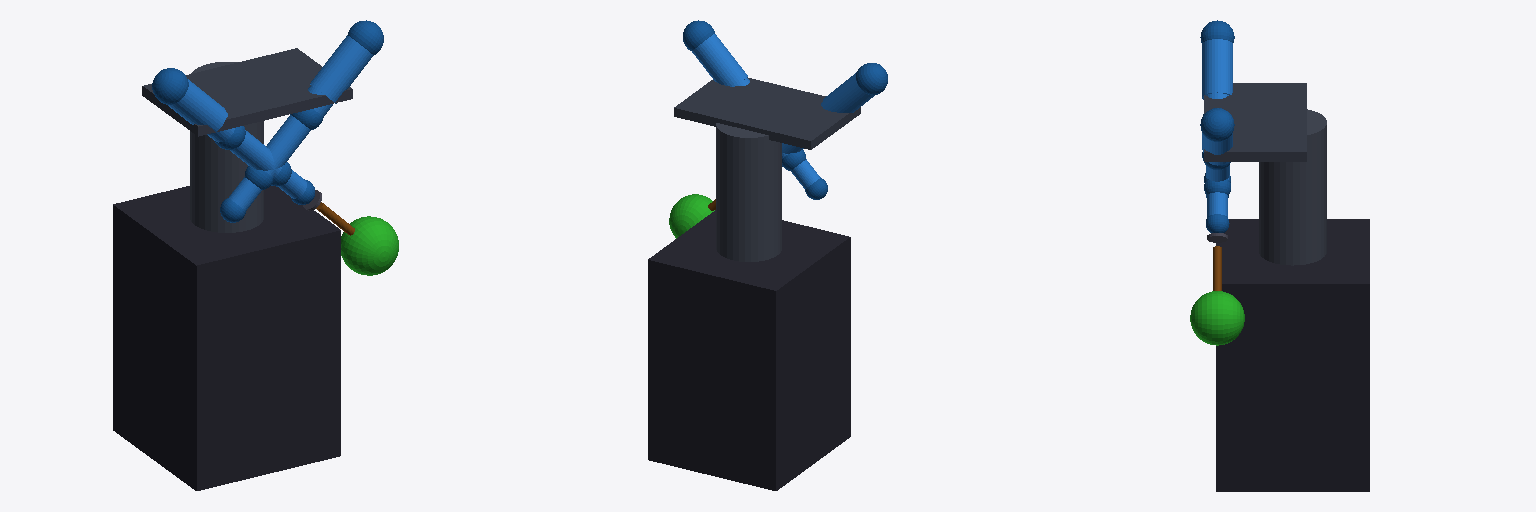
robot.urdf — tennis_rbt_robot:
<?xml version="1.0" encoding="utf-8"?>
<!--
  tennis_rbt 自制双臂网球机器人 URDF — canonical 机器人描述
  ════════════════════════════════════════════════════════════════
  用途：ROS / RViz / MoveIt / tf2 的标准机器人描述（人类可读事实来源）。
        MuJoCo 规划管线使用派生的 MJCF（src/robot/tennis_rbt.xml），
        二者运动学等价，需保持同步（修改其一须同步另一）。

  关系：URDF（本文件）= links/joints/inertial 的 canonical 描述
        MJCF（src/robot/tennis_rbt.xml）= MuJoCo 优化版（额外含 contact/exclude/actuator/site）
        rpy 已由 MJCF quaternion 精确转换（脚本 scipy as_euler('xyz')），保证等价。

  填写指引：见 docs/tennis_rbt_modeling_guide.md
  实测数据：见 assets/tennis_rbt/robot_measurements.yaml
  关节名（与 MJCF / 代码硬耦合一致）：r_joint1~6, l_joint1~6
  单位：米 / 弧度 / kg / kg·m²（URDF 标准）
-->
<robot name="tennis_rbt_robot">

  <!-- ================================================================ -->
  <!-- ===== 世界基座（虚拟 link） ===== -->
  <!-- ================================================================ -->
  <link name="base_link">
    <inertial>
      <mass value="0.001"/>
      <origin xyz="0 0 0" rpy="0 0 0"/>
      <inertia ixx="0.001" ixy="0" ixz="0" iyy="0.001" iyz="0" izz="0.001"/>
    </inertial>
  </link>

  <!-- ================================================================ -->
  <!-- ===== 自制底盘（box primitive，TODO_DIY 待实测） ===== -->
  <!-- ================================================================ -->
  <joint name="chassis_joint" type="fixed">
    <!-- 底盘 link 帧在 box 中心（世界 z=0.335），底面贴地 z=0 -->
    <origin xyz="0 0 0.335" rpy="0 0 0"/>
    <parent link="base_link"/>
    <child link="chassis_base"/>
  </joint>
  <link name="chassis_base">
    <!-- 落地长方体 0.45×0.45×0.67m，深灰承重感 -->
    <inertial>
      <mass value="30.0"/>
      <origin xyz="0 0 0" rpy="0 0 0"/>
      <inertia ixx="1.629" ixy="0" ixz="0" iyy="1.629" iyz="0" izz="1.013"/>
    </inertial>
    <visual>
      <origin xyz="0 0 0" rpy="0 0 0"/>
      <geometry>
        <box size="0.45 0.45 0.67"/>
      </geometry>
      <material name="chassis_grey"><color rgba="0.18 0.18 0.22 1"/></material>
    </visual>
    <collision>
      <origin xyz="0 0 0" rpy="0 0 0"/>
      <geometry>
        <box size="0.45 0.45 0.67"/>
      </geometry>
    </collision>
  </link>

  <!-- ===== 立柱（圆柱 ⌀0.2×0.415m，底盘顶 z=0.67 到平台 z=1.085） ===== -->
  <joint name="pillar_joint" type="fixed">
    <!-- 立柱底面在底盘顶面 z=0.67 -->
    <origin xyz="0 0 0.335" rpy="0 0 0"/>
    <parent link="chassis_base"/>
    <child link="pillar_base"/>
  </joint>
  <link name="pillar_base">
    <inertial>
      <mass value="10.0"/>
      <origin xyz="0 0 0.2075" rpy="0 0 0"/>
      <inertia ixx="0.169" ixy="0" ixz="0" iyy="0.169" iyz="0" izz="0.05"/>
    </inertial>
    <visual>
      <origin xyz="0 0 0.2075" rpy="0 0 0"/>
      <geometry>
        <cylinder length="0.415" radius="0.10"/>
      </geometry>
      <material name="pillar_dark"><color rgba="0.28 0.30 0.35 1"/></material>
    </visual>
    <collision>
      <origin xyz="0 0 0.2075" rpy="0 0 0"/>
      <geometry>
        <cylinder length="0.415" radius="0.10"/>
      </geometry>
    </collision>
  </link>

  <!-- ===== 平台（双臂安装基座，前置悬挑，世界 z=1.085） ===== -->
  <joint name="platform_joint" type="fixed">
    <!-- 平台前置 y=-0.11，世界 y=-0.11，使双臂悬挑在立柱前方 -->
    <origin xyz="0 -0.11 0.415" rpy="0 0 0"/>
    <parent link="pillar_base"/>
    <child link="platform_base_link"/>
  </joint>
  <link name="platform_base_link">
    <inertial>
      <mass value="3.0"/>
      <origin xyz="0 0 0" rpy="0 0 0"/>
      <inertia ixx="0.017" ixy="0" ixz="0" iyy="0.058" iyz="0" izz="0.075"/>
    </inertial>
    <visual>
      <origin xyz="0 0 0" rpy="0 0 0"/>
      <geometry><box size="0.48 0.30 0.03"/></geometry>
      <material name="platform_grey"><color rgba="0.25 0.27 0.32 1"/></material>
    </visual>
  </link>

  <!-- ================================================================ -->
  <!-- ===== 右臂（6-DOF + 网球拍）— 整段复用 RM-65B ===== -->
  <!-- ================================================================ -->
  <joint name="r_base_joint" type="fixed">
    <!-- 右臂底座：x=-0.17, y=-0.11（前置悬挑，世界 y=-0.22 避开立柱），rpy 不变 -->
    <origin xyz="-0.17 -0.11 0" rpy="0 -0.7854 0"/>
    <parent link="platform_base_link"/>
    <child link="r_base_link1"/>
  </joint>
  <link name="r_base_link1">
    <inertial>
      <mass value="0.234"/>
      <origin xyz="0 0.006 0.025" rpy="0 0 0"/>
      <inertia ixx="0.000274" ixy="0" ixz="0" iyy="0.000264" iyz="0" izz="0.000367"/>
    </inertial>
    <visual>
      <origin xyz="0 0 0.0935" rpy="0 0 0"/>
      <geometry><cylinder length="0.187" radius="0.045"/></geometry>
      <material name="arm_blue"><color rgba="0.2 0.5 0.8 1"/></material>
    </visual>
  </link>

  <!-- r_joint1: 肩关节偏航 -->
  <joint name="r_joint1" type="revolute">
    <origin xyz="0 0 0.187" rpy="0 0 0"/>
    <parent link="r_base_link1"/>
    <child link="r_link1"/>
    <axis xyz="0 0 1"/>
    <limit lower="-3.10669" upper="3.10669" effort="60" velocity="3.14"/>
    <dynamics damping="2.0"/>
  </joint>
  <link name="r_link1">
    <inertial>
      <mass value="0.594"/>
      <origin xyz="0 0.021 -0.025" rpy="0 0 0"/>
      <inertia ixx="0.00127" ixy="0" ixz="0" iyy="0.00118" iyz="0" izz="0.000561"/>
    </inertial>
    <visual>
      <origin xyz="0 0 0" rpy="0 0 0"/>
      <geometry><sphere radius="0.05"/></geometry>
      <material name="arm_joint"><color rgba="0.13 0.38 0.62 1"/></material>
    </visual>
  </link>

  <!-- r_joint2: 肩关节俯仰 -->
  <joint name="r_joint2" type="revolute">
    <origin xyz="0 0 0" rpy="-1.5708 1.5708 0"/>
    <parent link="r_link1"/>
    <child link="r_link2"/>
    <axis xyz="0 0 1"/>
    <limit lower="-2.26893" upper="2.26893" effort="60" velocity="3.14"/>
    <dynamics damping="2.0"/>
  </joint>
  <link name="r_link2">
    <inertial>
      <mass value="0.864"/>
      <origin xyz="0.152 0 -0.006" rpy="0 0 0"/>
      <inertia ixx="0.000633" ixy="0" ixz="0" iyy="0.00205" iyz="0" izz="0.00195"/>
    </inertial>
    <visual>
      <origin xyz="0.128 0 0" rpy="0 1.5708 0"/>
      <geometry><cylinder length="0.256" radius="0.04"/></geometry>
      <material name="arm_blue"/>
    </visual>
  </link>

  <!-- r_joint3: 肘关节 -->
  <joint name="r_joint3" type="revolute">
    <origin xyz="0.256 0 0" rpy="0 0 1.5708"/>
    <parent link="r_link2"/>
    <child link="r_link3"/>
    <axis xyz="0 0 1"/>
    <limit lower="-2.35619" upper="2.35619" effort="30" velocity="3.14"/>
    <dynamics damping="1.0"/>
  </joint>
  <link name="r_link3">
    <inertial>
      <mass value="0.290"/>
      <origin xyz="0 -0.060 0.010" rpy="0 0 0"/>
      <inertia ixx="0.000637" ixy="0" ixz="0" iyy="0.000156" iyz="0" izz="0.000614"/>
    </inertial>
    <visual>
      <origin xyz="0 0 0" rpy="0 0 0"/>
      <geometry><sphere radius="0.045"/></geometry>
      <material name="arm_joint"/>
    </visual>
    <visual>
      <origin xyz="0 -0.105 0" rpy="1.5708 0 0"/>
      <geometry><cylinder length="0.21" radius="0.035"/></geometry>
      <material name="arm_blue"/>
    </visual>
  </link>

  <!-- r_joint4: 腕关节1 -->
  <joint name="r_joint4" type="revolute">
    <origin xyz="0 -0.21 0" rpy="1.5708 0 0"/>
    <parent link="r_link3"/>
    <child link="r_link4"/>
    <axis xyz="0 0 1"/>
    <limit lower="-3.10669" upper="3.10669" effort="10" velocity="3.14"/>
    <dynamics damping="0.5"/>
  </joint>
  <link name="r_link4">
    <inertial>
      <mass value="0.239"/>
      <origin xyz="0 -0.018 -0.022" rpy="0 0 0"/>
      <inertia ixx="0.000286" ixy="0" ixz="0" iyy="0.000263" iyz="0" izz="0.000120"/>
    </inertial>
    <visual>
      <origin xyz="0 0 0" rpy="0 0 0"/>
      <geometry><sphere radius="0.04"/></geometry>
      <material name="arm_joint"/>
    </visual>
  </link>

  <!-- r_joint5: 腕关节2 -->
  <joint name="r_joint5" type="revolute">
    <origin xyz="0 0 0" rpy="-1.5708 0 0"/>
    <parent link="r_link4"/>
    <child link="r_link5"/>
    <axis xyz="0 0 1"/>
    <limit lower="-2.23402" upper="2.23402" effort="10" velocity="3.14"/>
    <dynamics damping="0.3"/>
  </joint>
  <link name="r_link5">
    <inertial>
      <mass value="0.219"/>
      <origin xyz="0 -0.059 0.007" rpy="0 0 0"/>
      <inertia ixx="0.000351" ixy="0" ixz="0" iyy="0.000105" iyz="0" izz="0.000334"/>
    </inertial>
    <visual>
      <origin xyz="0 -0.056 0" rpy="1.5708 0 0"/>
      <geometry><cylinder length="0.112" radius="0.03"/></geometry>
      <material name="arm_blue"/>
    </visual>
  </link>

  <!-- r_joint6: 腕关节3（法兰旋转） -->
  <joint name="r_joint6" type="revolute">
    <origin xyz="0 -0.112 0" rpy="1.5708 0 0"/>
    <parent link="r_link5"/>
    <child link="r_link6"/>
    <axis xyz="0 0 1"/>
    <limit lower="-6.28319" upper="6.28319" effort="10" velocity="3.14"/>
    <dynamics damping="0.2"/>
  </joint>
  <link name="r_link6">
    <inertial>
      <mass value="0.221"/>
      <origin xyz="-0.029 0 0.028" rpy="0 0 0"/>
      <inertia ixx="0.000138" ixy="0" ixz="0" iyy="0.000269" iyz="0" izz="0.000353"/>
    </inertial>
    <visual>
      <origin xyz="0 0 0" rpy="0 0 0"/>
      <geometry><sphere radius="0.035"/></geometry>
      <material name="arm_joint"/>
    </visual>
  </link>

  <!-- ===== 法兰 ===== -->
  <joint name="r_flange_joint" type="fixed">
    <origin xyz="0 0 0.0445" rpy="0 0 0"/>
    <parent link="r_link6"/>
    <child link="r_flange"/>
  </joint>
  <link name="r_flange">
    <inertial>
      <mass value="0.05"/>
      <origin xyz="0 0 0" rpy="0 0 0"/>
      <inertia ixx="0.00002" ixy="0" ixz="0" iyy="0.00002" iyz="0" izz="0.00002"/>
    </inertial>
    <visual>
      <origin xyz="0 0 0" rpy="0 0 0"/>
      <geometry><cylinder length="0.01" radius="0.03"/></geometry>
      <material name="flange_grey"><color rgba="0.3 0.3 0.35 1"/></material>
    </visual>
  </link>

  <!-- ===== 网球拍（末端执行器） ===== -->
  <!-- TODO_DIY: 若球拍安装方式与 RM-65B 不同，改这里的 origin（见 [A].racket） -->
  <joint name="r_racket_joint" type="fixed">
    <origin xyz="0 0 0" rpy="0 0 1.5708"/>
    <parent link="r_flange"/>
    <child link="r_racket_body"/>
  </joint>
  <link name="r_racket_body">
    <inertial>
      <mass value="0.35"/>
      <origin xyz="0 0 0.13" rpy="0 0 0"/>
      <inertia ixx="0.003" ixy="0" ixz="0" iyy="0.001" iyz="0" izz="0.003"/>
    </inertial>
    <visual>
      <origin xyz="0 0 0.125" rpy="0 0 0"/>
      <geometry><cylinder length="0.19" radius="0.012"/></geometry>
      <material name="handle_brown"><color rgba="0.5 0.3 0.1 1"/></material>
    </visual>
    <visual>
      <origin xyz="0 0 0.25" rpy="0 1.5708 0"/>
      <geometry><sphere radius="0.08"/></geometry>
      <material name="face_green"><color rgba="0.2 0.7 0.2 0.6"/></material>
    </visual>
  </link>
  <!-- 拍面中心标记（对应 MJCF 的 racket_center site） -->
  <link name="racket_center"/>
  <joint name="racket_center_joint" type="fixed">
    <origin xyz="0 0 0.25" rpy="0 0 0"/>
    <parent link="r_racket_body"/>
    <child link="racket_center"/>
  </joint>

  <!-- ================================================================ -->
  <!-- ===== 左臂（不驱动，仅视觉）— 整段复用 RM-65B ===== -->
  <!-- ================================================================ -->
  <joint name="l_base_joint" type="fixed">
    <!-- 左臂底座：x=+0.17, y=-0.11（前置悬挑），与右臂镜像 -->
    <origin xyz="0.17 -0.11 0" rpy="0 -0.7854 3.14159"/>
    <parent link="platform_base_link"/>
    <child link="l_base_link1"/>
  </joint>
  <link name="l_base_link1">
    <inertial>
      <mass value="0.234"/>
      <origin xyz="0 0.006 0.025" rpy="0 0 0"/>
      <inertia ixx="0.000274" ixy="0" ixz="0" iyy="0.000264" iyz="0" izz="0.000367"/>
    </inertial>
    <visual>
      <origin xyz="0 0 0.0935" rpy="0 0 0"/>
      <geometry><cylinder length="0.187" radius="0.045"/></geometry>
      <material name="arm_grey"><color rgba="0.2 0.5 0.8 1"/></material>
    </visual>
  </link>

  <!-- l_joint1 -->
  <joint name="l_joint1" type="revolute">
    <origin xyz="0 0 0.187" rpy="0 0 0"/>
    <parent link="l_base_link1"/>
    <child link="l_link1"/>
    <axis xyz="0 0 1"/>
    <limit lower="-3.10669" upper="3.10669" effort="60" velocity="3.14"/>
    <dynamics damping="2.0"/>
  </joint>
  <link name="l_link1">
    <inertial>
      <mass value="0.594"/>
      <origin xyz="0 0.021 -0.025" rpy="0 0 0"/>
      <inertia ixx="0.00127" ixy="0" ixz="0" iyy="0.00118" iyz="0" izz="0.000561"/>
    </inertial>
    <visual>
      <origin xyz="0 0 0" rpy="0 0 0"/>
      <geometry><sphere radius="0.05"/></geometry>
      <material name="arm_joint"/>
    </visual>
  </link>

  <!-- l_joint2 -->
  <joint name="l_joint2" type="revolute">
    <origin xyz="0 0 0" rpy="-1.5708 1.5708 0"/>
    <parent link="l_link1"/>
    <child link="l_link2"/>
    <axis xyz="0 0 1"/>
    <limit lower="-2.26893" upper="2.26893" effort="60" velocity="3.14"/>
    <dynamics damping="2.0"/>
  </joint>
  <link name="l_link2">
    <inertial>
      <mass value="0.864"/>
      <origin xyz="0.152 0 -0.006" rpy="0 0 0"/>
      <inertia ixx="0.000633" ixy="0" ixz="0" iyy="0.00205" iyz="0" izz="0.00195"/>
    </inertial>
    <visual>
      <origin xyz="0.128 0 0" rpy="0 1.5708 0"/>
      <geometry><cylinder length="0.256" radius="0.04"/></geometry>
      <material name="arm_grey"/>
    </visual>
  </link>

  <!-- l_joint3 -->
  <joint name="l_joint3" type="revolute">
    <origin xyz="0.256 0 0" rpy="0 0 1.5708"/>
    <parent link="l_link2"/>
    <child link="l_link3"/>
    <axis xyz="0 0 1"/>
    <limit lower="-2.35619" upper="2.35619" effort="30" velocity="3.14"/>
    <dynamics damping="1.0"/>
  </joint>
  <link name="l_link3">
    <inertial>
      <mass value="0.290"/>
      <origin xyz="0 -0.060 0.010" rpy="0 0 0"/>
      <inertia ixx="0.000637" ixy="0" ixz="0" iyy="0.000156" iyz="0" izz="0.000614"/>
    </inertial>
    <visual>
      <origin xyz="0 0 0" rpy="0 0 0"/>
      <geometry><sphere radius="0.045"/></geometry>
      <material name="arm_joint"/>
    </visual>
    <visual>
      <origin xyz="0 -0.105 0" rpy="1.5708 0 0"/>
      <geometry><cylinder length="0.21" radius="0.035"/></geometry>
      <material name="arm_grey"/>
    </visual>
  </link>

  <!-- l_joint4 -->
  <joint name="l_joint4" type="revolute">
    <origin xyz="0 -0.21 0" rpy="1.5708 0 0"/>
    <parent link="l_link3"/>
    <child link="l_link4"/>
    <axis xyz="0 0 1"/>
    <limit lower="-3.10669" upper="3.10669" effort="10" velocity="3.14"/>
    <dynamics damping="0.5"/>
  </joint>
  <link name="l_link4">
    <inertial>
      <mass value="0.239"/>
      <origin xyz="0 -0.018 -0.022" rpy="0 0 0"/>
      <inertia ixx="0.000286" ixy="0" ixz="0" iyy="0.000263" iyz="0" izz="0.000120"/>
    </inertial>
    <visual>
      <origin xyz="0 0 0" rpy="0 0 0"/>
      <geometry><sphere radius="0.04"/></geometry>
      <material name="arm_joint"/>
    </visual>
  </link>

  <!-- l_joint5 -->
  <joint name="l_joint5" type="revolute">
    <origin xyz="0 0 0" rpy="-1.5708 0 0"/>
    <parent link="l_link4"/>
    <child link="l_link5"/>
    <axis xyz="0 0 1"/>
    <limit lower="-2.23402" upper="2.23402" effort="10" velocity="3.14"/>
    <dynamics damping="0.3"/>
  </joint>
  <link name="l_link5">
    <inertial>
      <mass value="0.219"/>
      <origin xyz="0 -0.059 0.007" rpy="0 0 0"/>
      <inertia ixx="0.000351" ixy="0" ixz="0" iyy="0.000105" iyz="0" izz="0.000334"/>
    </inertial>
    <visual>
      <origin xyz="0 -0.0575 0" rpy="1.5708 0 0"/>
      <geometry><cylinder length="0.115" radius="0.03"/></geometry>
      <material name="arm_grey"/>
    </visual>
  </link>

  <!-- l_joint6 -->
  <joint name="l_joint6" type="revolute">
    <origin xyz="0 -0.115 0" rpy="1.5708 0 0"/>
    <parent link="l_link5"/>
    <child link="l_link6"/>
    <axis xyz="0 0 1"/>
    <limit lower="-6.28319" upper="6.28319" effort="10" velocity="3.14"/>
    <dynamics damping="0.2"/>
  </joint>
  <link name="l_link6">
    <inertial>
      <mass value="0.221"/>
      <origin xyz="0.029 0 0.025" rpy="0 0 0"/>
      <inertia ixx="0.000138" ixy="0" ixz="0" iyy="0.000269" iyz="0" izz="0.000353"/>
    </inertial>
    <visual>
      <origin xyz="0 0 0" rpy="0 0 0"/>
      <geometry><sphere radius="0.035"/></geometry>
      <material name="arm_joint"/>
    </visual>
  </link>

  <!-- ===== 传动（ros2_control 用，可选） =====
  <transmission name="r_joint1_trans">
    <type>transmission_interface/SimpleTransmission</type>
    <joint name="r_joint1"><hardwareInterface>hardware_interface/PositionJointInterface</hardwareInterface></joint>
    <actuator name="r_joint1_motor"><mechanicalReduction>1</mechanicalReduction></actuator>
  </transmission>
  -->

</robot>

--- Render facts (derived) ---
3 views of the same robot in one strip: view 1: azimuth 30°, elevation 25°; view 2: azimuth 150°, elevation 25°; view 3: azimuth 270°, elevation 25° (orthographic).
Model tennis_rbt_robot with 21 links and 20 joints (12 revolute, 8 fixed), rooted at base_link, posed all joints at 0.
Links seen in each view (by area): view 1: chassis_base, platform_base_link, pillar_base, r_racket_body, l_base_link1, l_link3, r_base_link1, r_link3, r_link1, l_link1, l_link5; view 2: chassis_base, pillar_base, platform_base_link, l_base_link1, r_racket_body, r_base_link1, r_link1, l_link1; view 3: chassis_base, pillar_base, platform_base_link, r_racket_body, r_base_link1, l_link1, r_link1.
Boxes of the visible links, x1,y1,x2,y2 form: chassis_base: (113, 186, 340, 490); platform_base_link: (142, 48, 352, 136); pillar_base: (190, 62, 263, 232); r_racket_body: (316, 202, 398, 275); l_base_link1: (310, 35, 373, 103); l_link3: (265, 109, 323, 177); r_base_link1: (168, 79, 225, 134); r_link3: (215, 126, 281, 176); r_link1: (152, 68, 188, 104); l_link1: (348, 20, 383, 54); l_link5: (229, 177, 261, 210); chassis_base: (648, 210, 850, 490); pillar_base: (716, 123, 781, 261); platform_base_link: (674, 78, 860, 149); l_base_link1: (692, 34, 747, 86); r_racket_body: (669, 194, 715, 238); r_base_link1: (822, 72, 874, 112); r_link1: (856, 63, 887, 94); l_link1: (683, 20, 714, 50); chassis_base: (1216, 219, 1369, 491); pillar_base: (1259, 109, 1326, 265); platform_base_link: (1204, 83, 1306, 161); r_racket_body: (1190, 246, 1244, 345); r_base_link1: (1202, 39, 1232, 99); l_link1: (1200, 108, 1234, 141); r_link1: (1200, 20, 1234, 42).
Bounding box of the posed robot: 0.7469 × 0.525 × 1.27 m (x, y, z).
Geometry: primitives only (box / cylinder / sphere), no mesh files.
